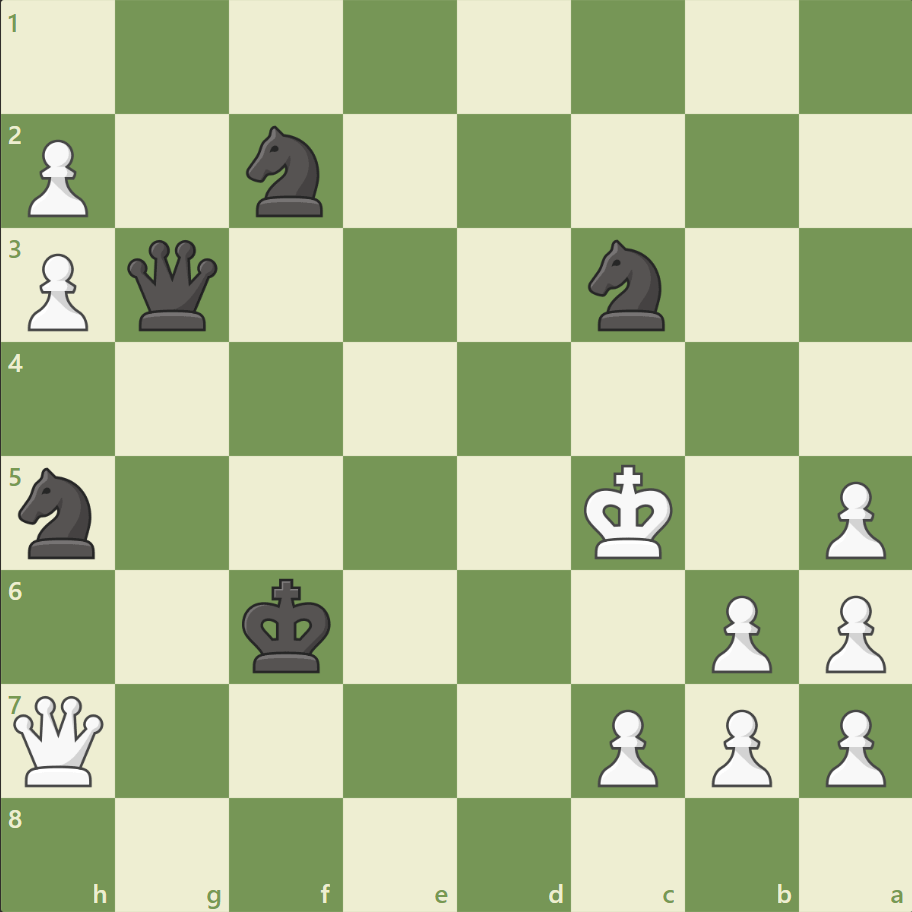K: (579, 458, 679, 566)
P: (701, 700, 776, 791), (701, 586, 776, 677), (20, 246, 95, 337), (20, 132, 95, 223), (815, 700, 889, 791), (588, 700, 662, 791), (815, 586, 889, 677), (815, 473, 889, 564)
Q: (10, 690, 109, 789)
k: (238, 571, 338, 679)
n: (11, 461, 108, 564), (579, 234, 676, 337), (238, 121, 335, 223)
q: (124, 236, 223, 335)
